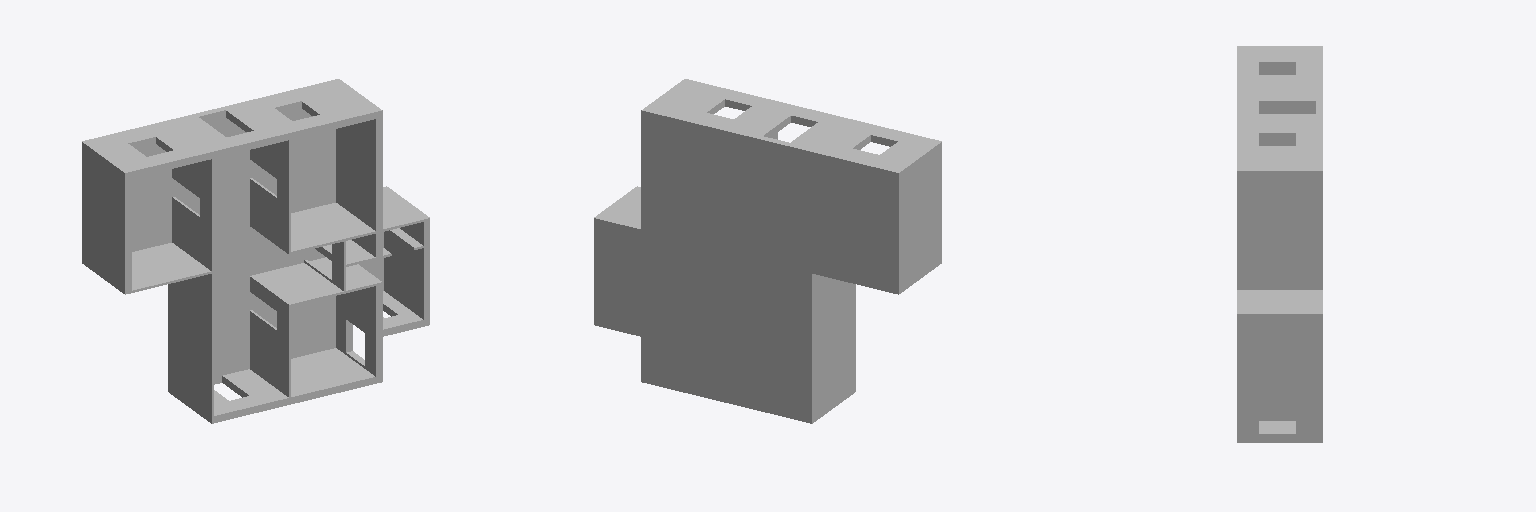
The model's file is apartment.obj.
3 renders of one model, left to right at view 1: azimuth 30°, elevation 25°; view 2: azimuth 150°, elevation 25°; view 3: azimuth 270°, elevation 25°, orthographic.
Size of the model in its own units: 13.4 by 11.4 by 3.3.